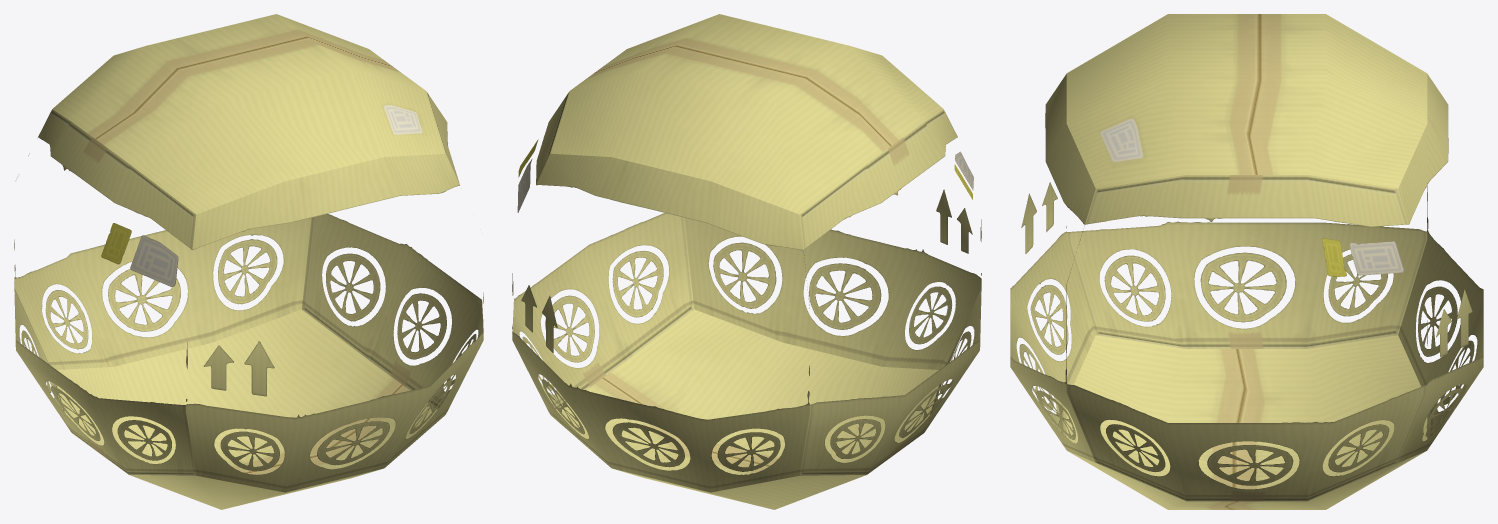
File: p_mesh_orangebox_pose0.fbx
3 views of the same model, side by side, from view 1: azimuth 30°, elevation 25°; view 2: azimuth 150°, elevation 25°; view 3: azimuth 270°, elevation 25° (orthographic). The views are drawn at different scales.
Parts seen in each view (by area): view 1: p_mesh_containers_vegboxorange_pose0; view 2: p_mesh_containers_vegboxorange_pose0; view 3: p_mesh_containers_vegboxorange_pose0.
Part boxes in pixels (<box>): p_mesh_containers_vegboxorange_pose0: <box>14,14,483,509</box>; p_mesh_containers_vegboxorange_pose0: <box>512,14,981,509</box>; p_mesh_containers_vegboxorange_pose0: <box>1010,14,1483,509</box>.
Size of the model in its own units: 7.29 by 7.29 by 7.29.
